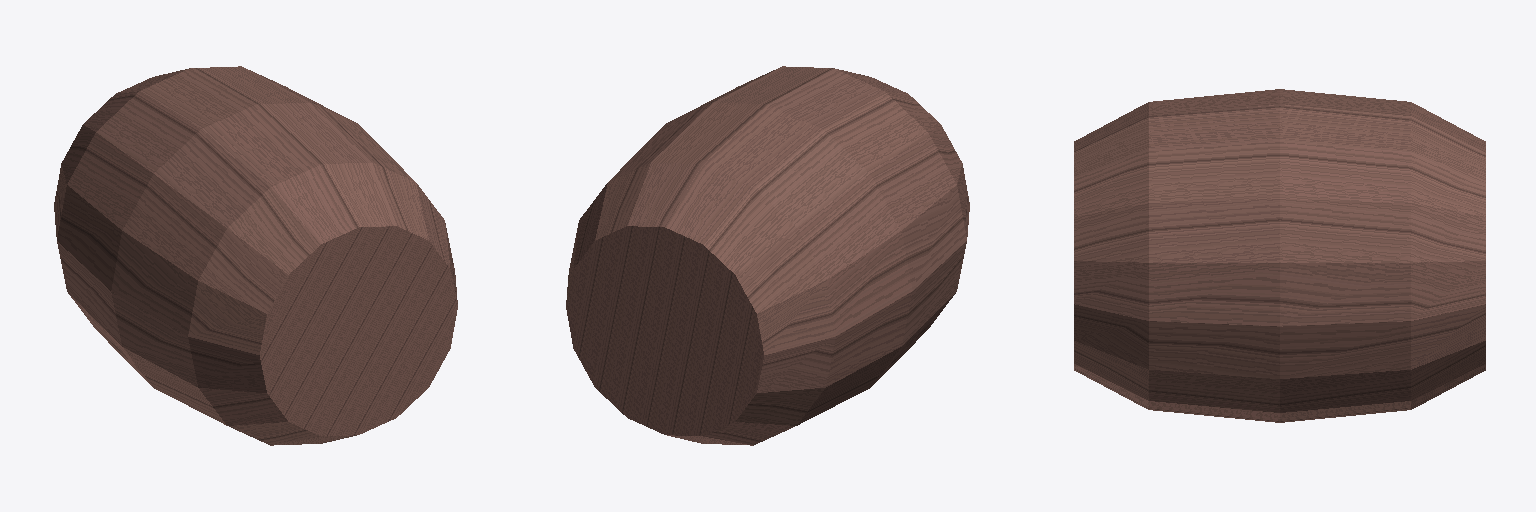
The picture shows the model from 3 angles: view 1: azimuth 30°, elevation 25°; view 2: azimuth 150°, elevation 25°; view 3: azimuth 270°, elevation 25°; orthographic projection.
Visible parts, largest first — view 1: Cylinder; view 2: Cylinder; view 3: Cylinder.
Boxes of the visible parts, x1,y1,x2,y2 form: Cylinder: [54, 66, 457, 445]; Cylinder: [566, 66, 969, 445]; Cylinder: [1074, 89, 1485, 422].
Bounding box in the file's own units: 0.8122 × 0.8122 × 1.
1 materials, 1 textured.